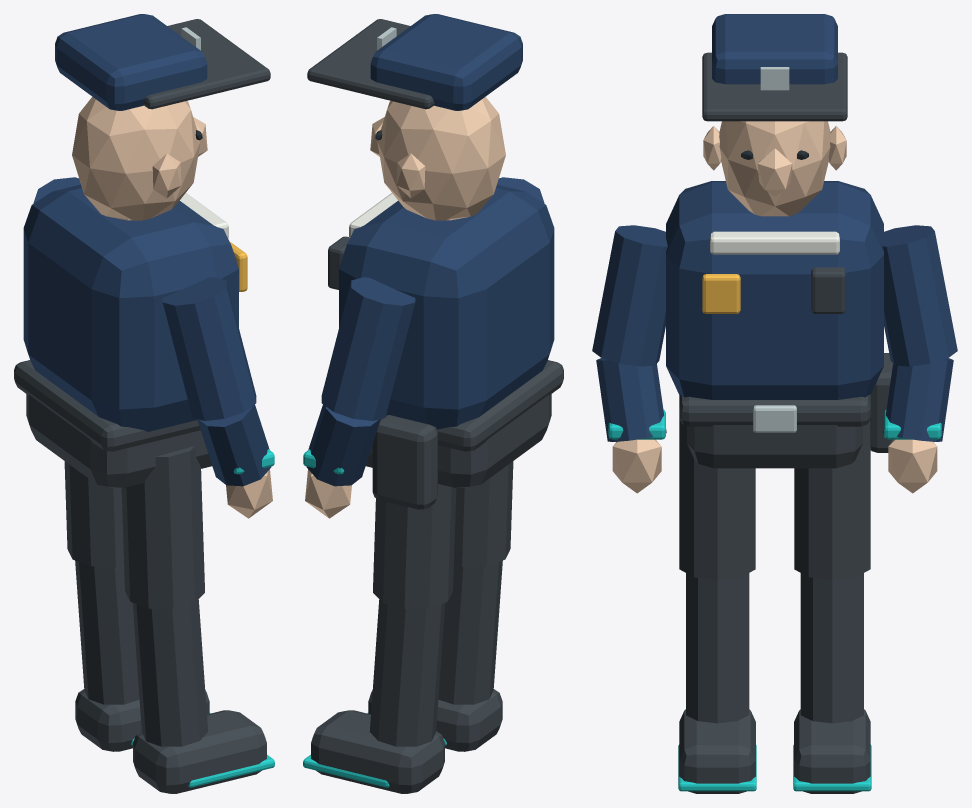
File: Police.fbx
3 renders of one model, left to right at view 1: azimuth 30°, elevation 25°; view 2: azimuth 150°, elevation 25°; view 3: azimuth 270°, elevation 25°, orthographic.
Visible parts, largest first — view 1: Police; view 2: Police; view 3: Police.
Part boxes in pixels (<box>): Police: <box>14,14,274,793</box>; Police: <box>303,14,563,793</box>; Police: <box>592,14,957,793</box>.
Size of the model in its own units: 53.5 by 208 by 95.55.
